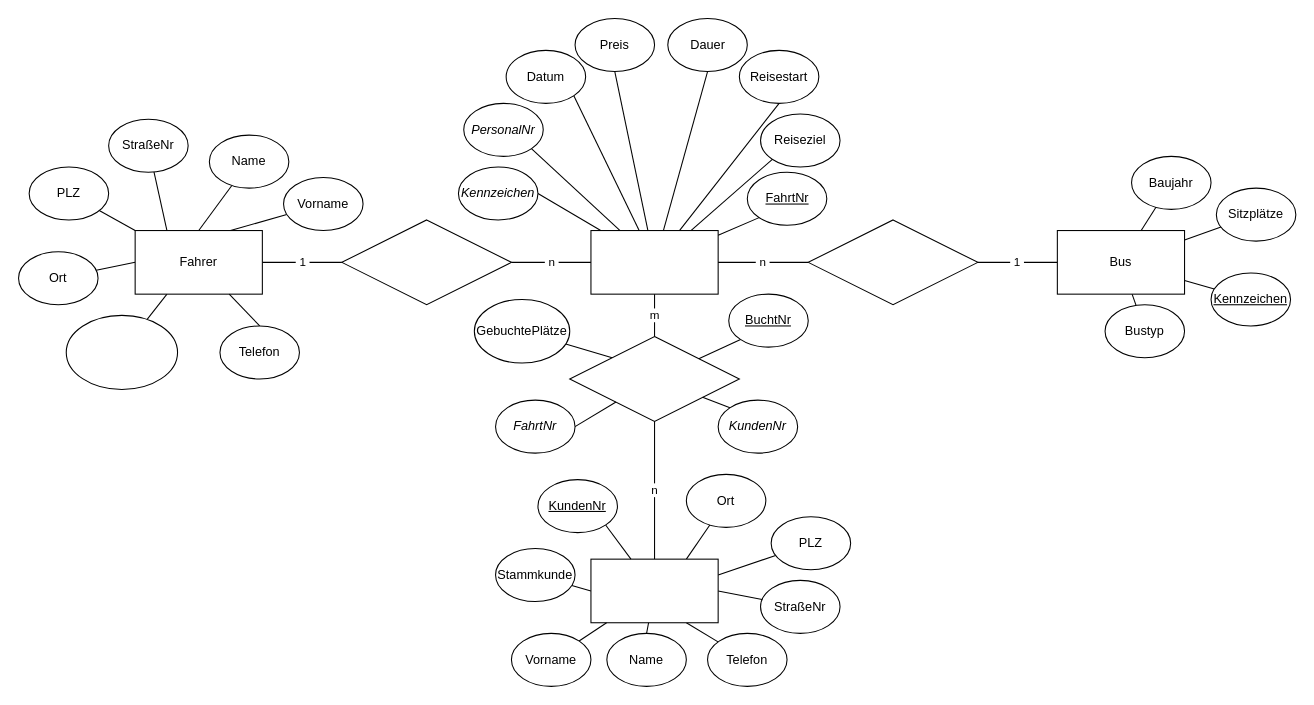
Image size: 1314x705. Some labels were removed from this diagram. The shapes that lost their labels are listed below. From the top down, each one's box as (x1, y1, x2, y2) in pixels, then its label:
(341, 219, 511, 305): übernimmt / wird übernommen
(590, 229, 718, 294): Fahrt
(807, 219, 978, 305): setzt ein / wird eingesetzt
(65, 314, 178, 390): Personalnummer
(569, 335, 739, 421): wird gebucht / bucht
(590, 558, 718, 623): Kunde
